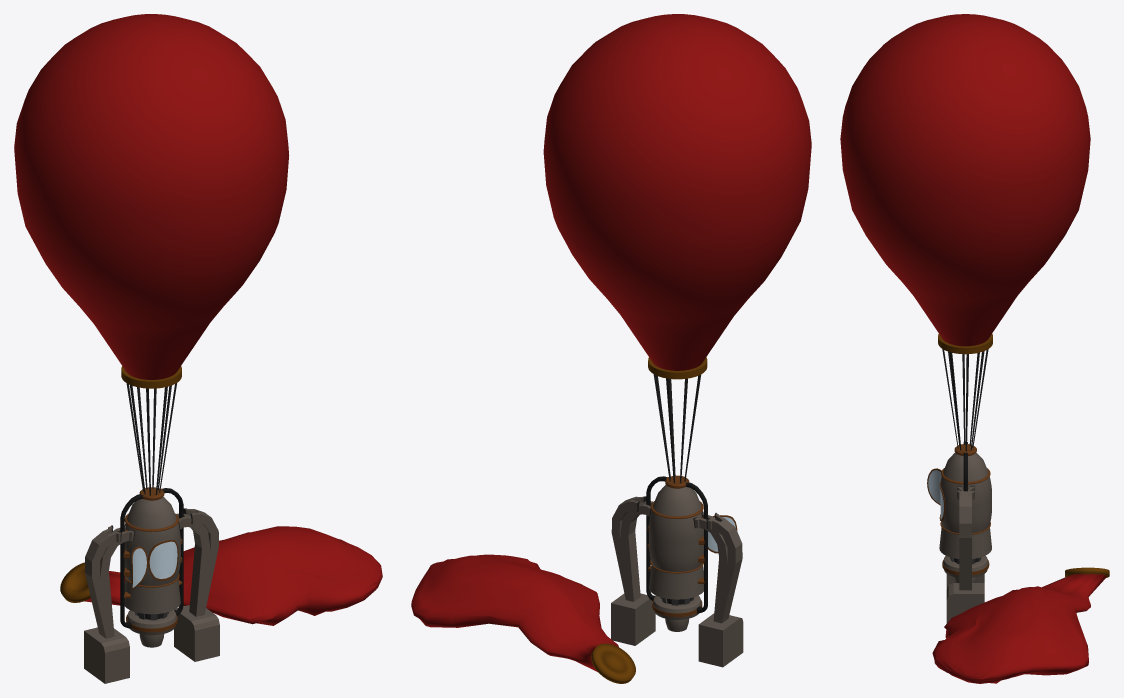
Rendered from balloon.glb.
3 renders of one model, left to right at view 1: azimuth 30°, elevation 25°; view 2: azimuth 150°, elevation 25°; view 3: azimuth 270°, elevation 25°, orthographic. The views are drawn at different scales.
Visible parts, largest first — view 1: balloon full, balloon empty, gondola holder closed, Gondola closed, Gondola open, gondola holder open; view 2: balloon full, balloon empty, Gondola closed, gondola holder closed, gondola holder open, Gondola open; view 3: balloon full, balloon empty, Gondola open, Gondola closed, gondola holder open, gondola holder closed.
Boxes of the visible parts, bbox=[...] form: balloon full: bbox=[14, 14, 289, 495]; balloon empty: bbox=[60, 526, 382, 625]; gondola holder closed: bbox=[84, 513, 219, 683]; Gondola closed: bbox=[120, 487, 183, 647]; Gondola open: bbox=[122, 487, 183, 647]; gondola holder open: bbox=[85, 508, 218, 679]; balloon full: bbox=[543, 14, 811, 483]; balloon empty: bbox=[411, 554, 635, 683]; Gondola closed: bbox=[646, 475, 707, 631]; gondola holder closed: bbox=[611, 501, 743, 667]; gondola holder open: bbox=[611, 496, 742, 664]; Gondola open: bbox=[646, 475, 737, 627]; balloon full: bbox=[840, 14, 1090, 451]; balloon empty: bbox=[932, 567, 1109, 683]; Gondola open: bbox=[927, 442, 990, 582]; Gondola closed: bbox=[939, 441, 991, 582]; gondola holder open: bbox=[947, 489, 984, 590]; gondola holder closed: bbox=[946, 485, 984, 623].
Size of the model in its own units: 6.24 by 10.58 by 4.47.
